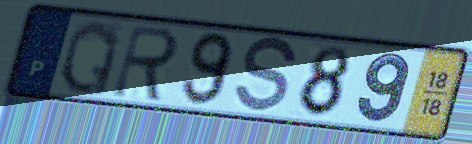8: (293, 43, 351, 120)
9: (353, 50, 413, 126), (180, 30, 237, 109)
Q: (55, 17, 123, 98)
R: (108, 22, 183, 105)
S: (230, 35, 300, 117)
